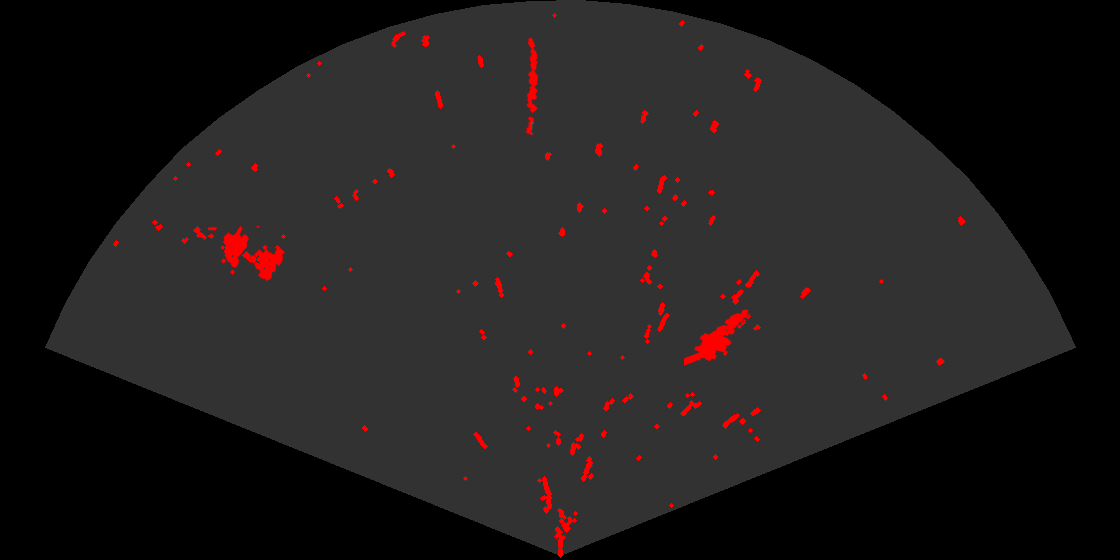cage: (208, 226, 286, 282)
chain: (525, 36, 540, 137)
frogman: (684, 308, 750, 367)
